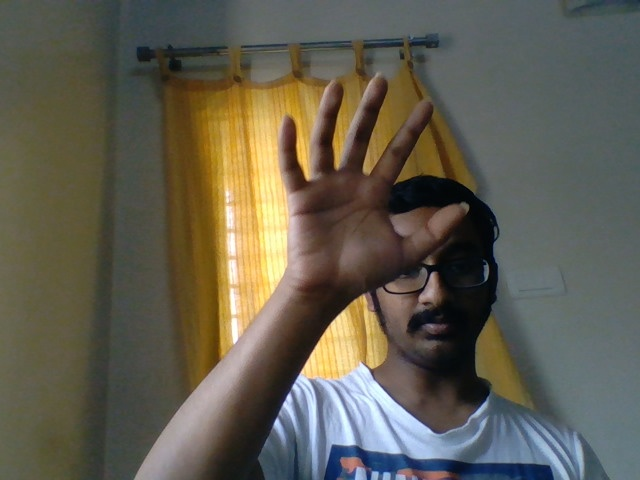no: (250, 59, 466, 291)
